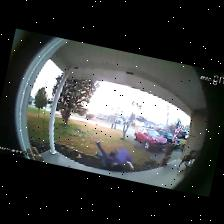person: (94, 141, 133, 171)
